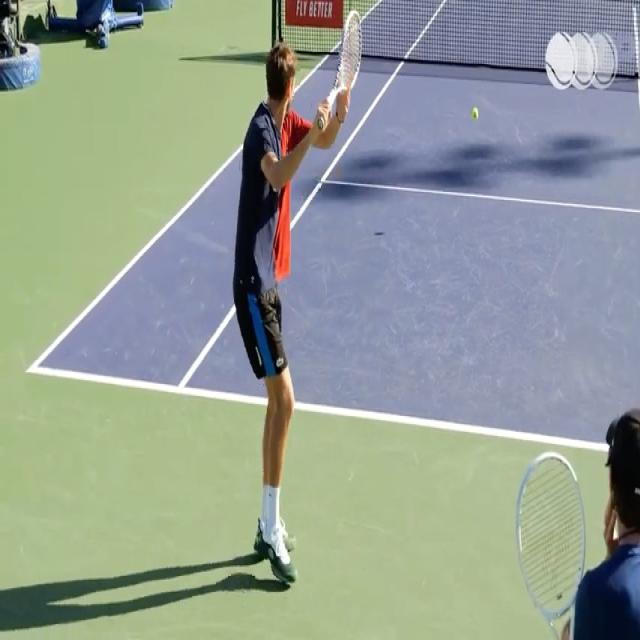forehand-ready: (232, 5, 362, 593)
